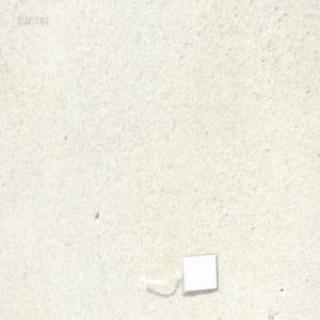LuggageTagtrack_idkeyframe: (134, 249, 216, 295)
